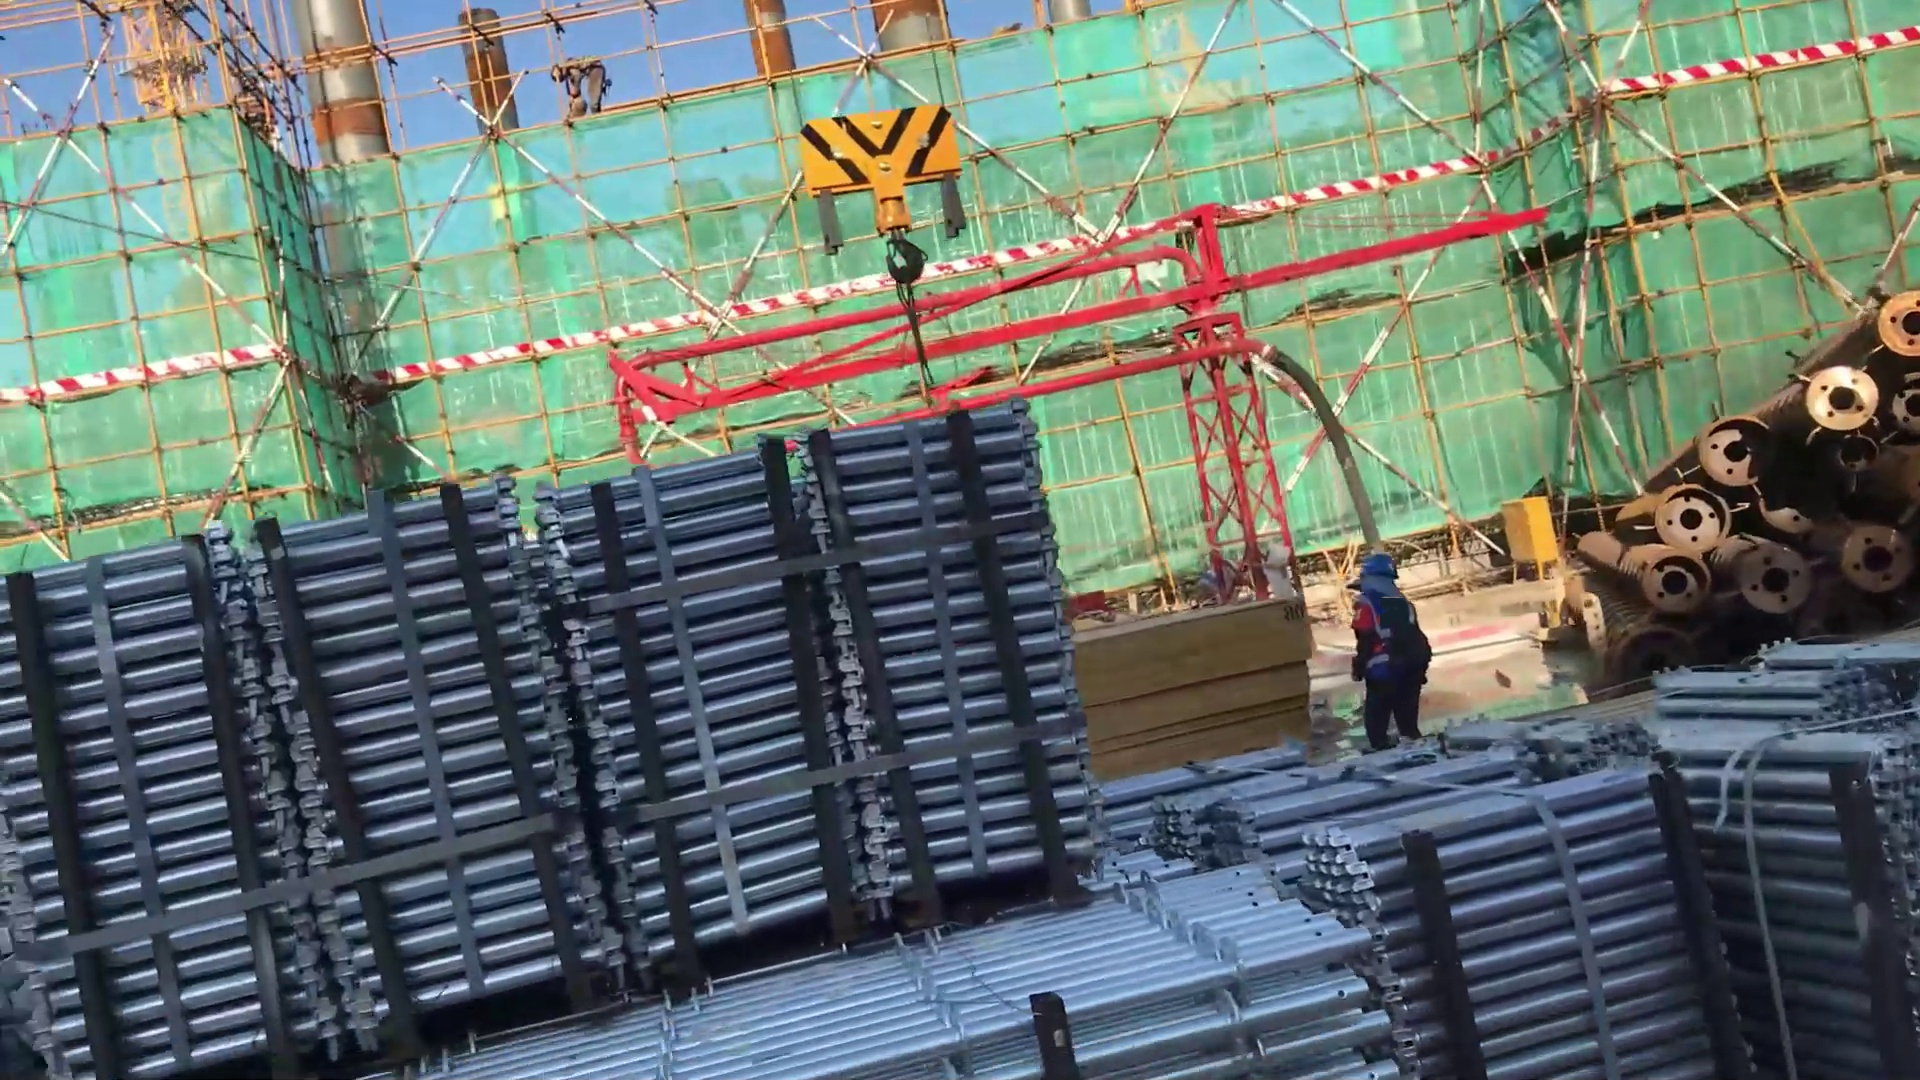board: (1055, 566, 1315, 799)
helmet: (1350, 549, 1401, 595)
hook: (777, 87, 998, 312)
person: (1340, 537, 1433, 771), (541, 57, 623, 130)
scaffold: (15, 387, 1098, 1080), (383, 814, 1379, 1080), (1130, 753, 1758, 1080), (1669, 618, 1920, 1080)
vest: (1354, 589, 1430, 707)
